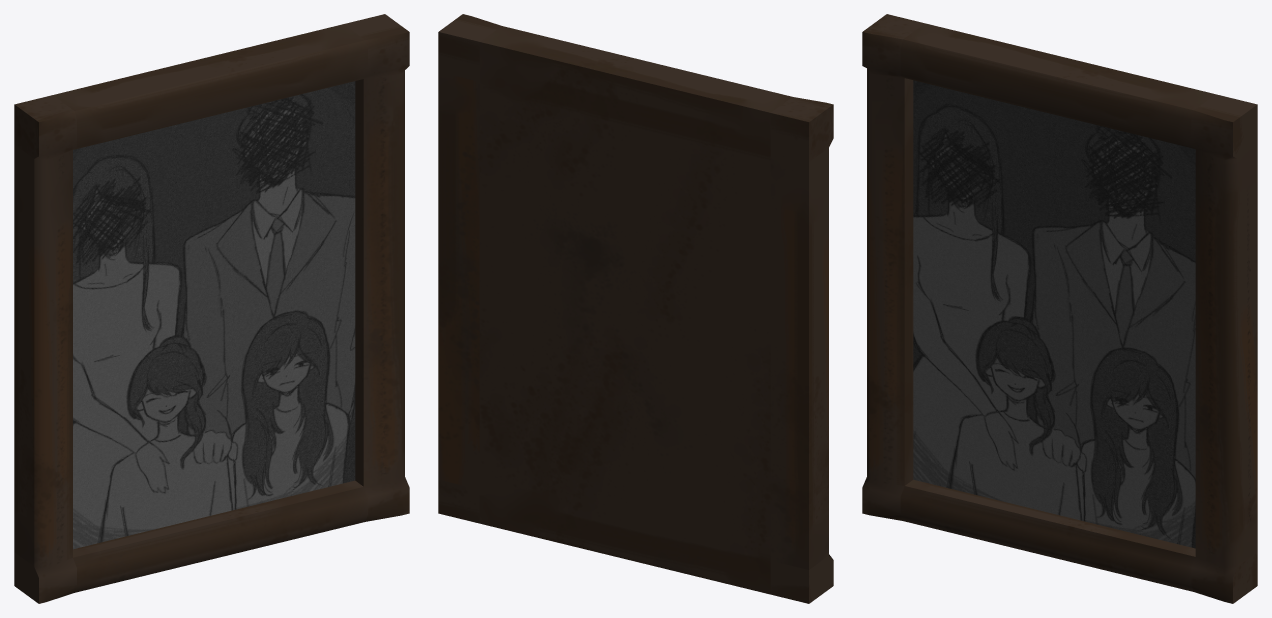
The model's file is familyportrait.fbx.
3 views of the same model, side by side, from view 1: azimuth 30°, elevation 25°; view 2: azimuth 150°, elevation 25°; view 3: azimuth 330°, elevation 25° (orthographic).
Parts seen in each view (by area): view 1: frame4; view 2: frame4; view 3: frame4.
Boxes of the visible parts, left/top/right/bottom form: frame4: left=14, top=14, right=409, bottom=603; frame4: left=438, top=14, right=833, bottom=603; frame4: left=862, top=14, right=1257, bottom=603.
Bounding box in the file's own units: 12.73 × 15.81 × 1.45.
Materials: 1 (1 with a texture image).
